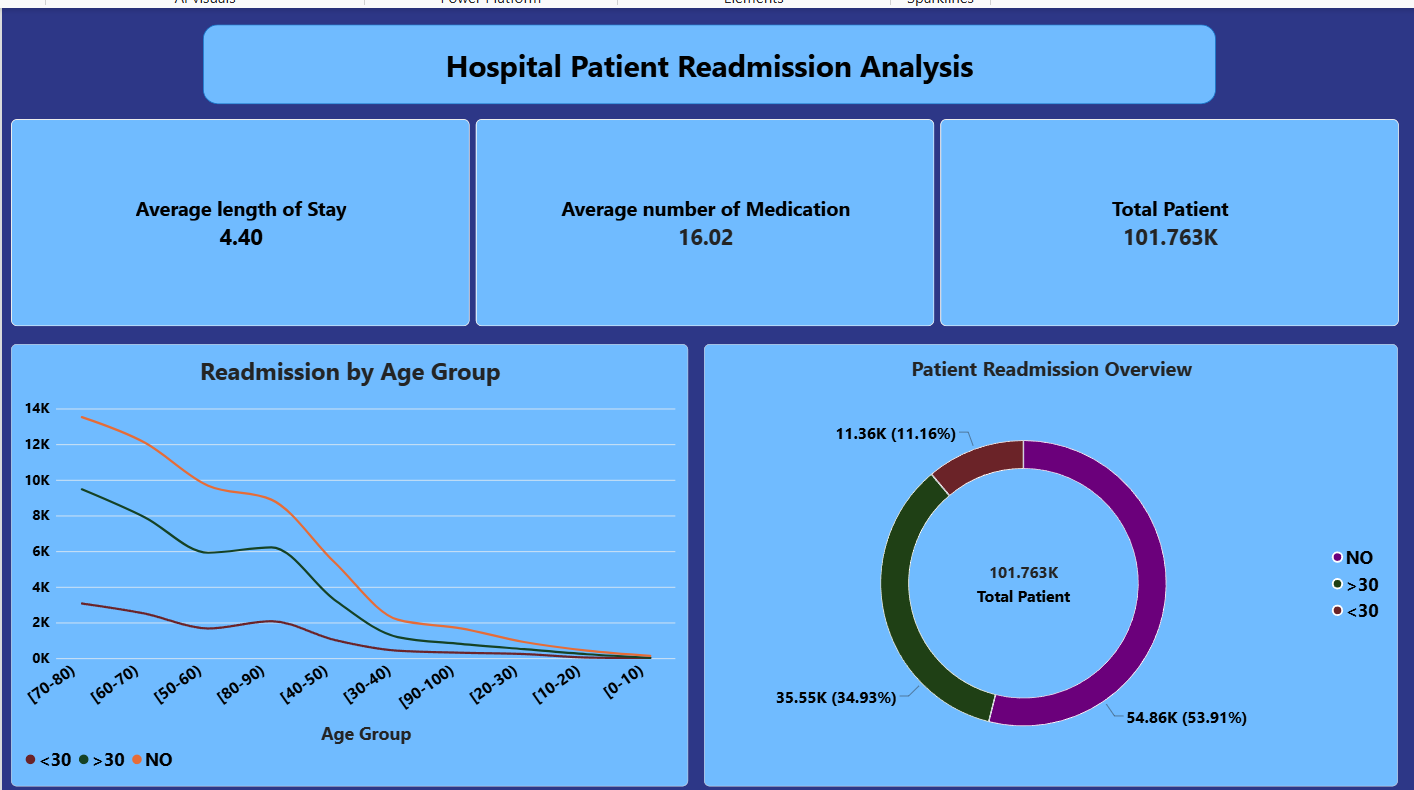

What the dashboard file says about the page in this screenshot:
{"tool":"powerbi","page":{"name":"Page 1","canvas":[1920,1080],"ordinal":0},"visuals":[{"type":"cardVisual","fields":{"Data":["Avg(diabetic_data_cleaned.time_in_hospital)","Avg(diabetic_data_cleaned.num_medications)","CountNonNull(diabetic_data_cleaned.patient_nbr)"]},"box":[11.3,150.2,1876.5,280.6],"z":0},{"type":"donutChart","title":"Patient Readmission Overview","fields":{"Category":["diabetic_data_cleaned.readmitted"],"Y":["CountNonNull(diabetic_data_cleaned.patient_nbr)"]},"box":[949.6,453.5,938.3,598.1],"z":3},{"type":"lineChart","title":"Readmission by Age Group","fields":{"Category":["diabetic_data_cleaned.age"],"Y":["CountNonNull(diabetic_data_cleaned.patient_nbr)"],"Series":["diabetic_data_cleaned.readmitted"]},"box":[11.3,453.5,915.6,598.1],"z":4},{"type":"shape","box":[272.1,22.7,1369.1,107.7],"z":5}]}

Visuals, with their boxes in screenshot pixels (x1, y1, x2, y2):
cardVisual - Avg(diabetic_data_cleaned.time_in_hospital) x Avg(diabetic_data_cleaned.num_medications): (1,113,1408,323)
"Patient Readmission Overview" donutChart: (704,340,1408,788)
"Readmission by Age Group" lineChart: (1,340,687,788)
shape: (197,17,1223,98)
